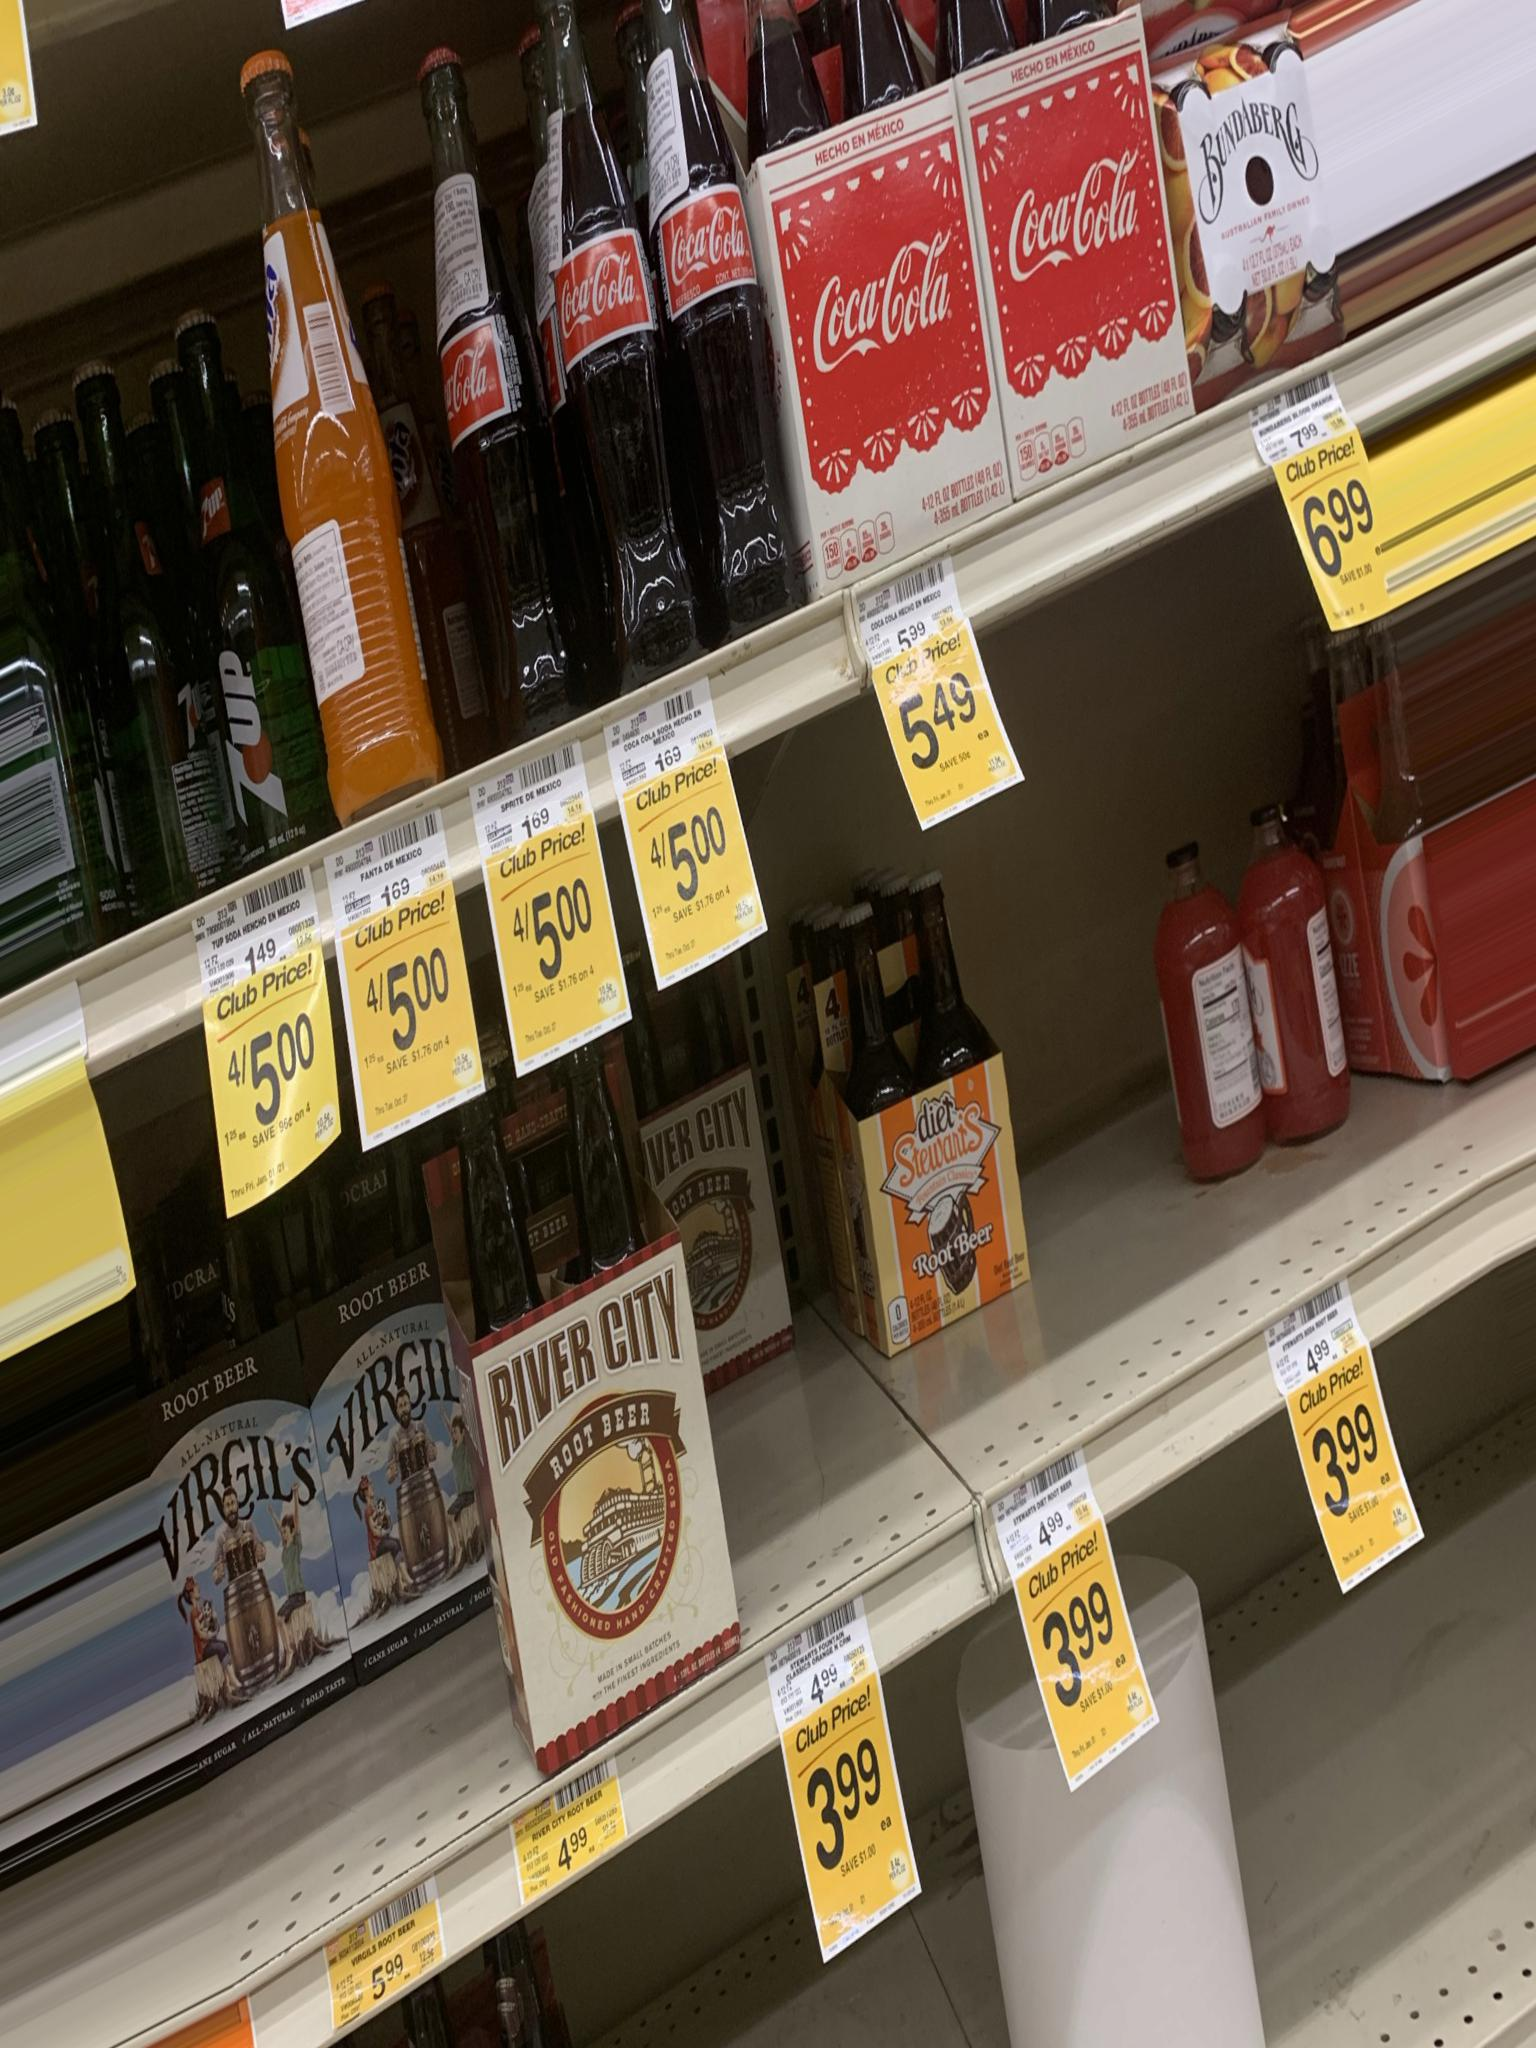soda: (718, 18, 1175, 492), (187, 63, 457, 805), (510, 15, 750, 651), (379, 52, 591, 755)
